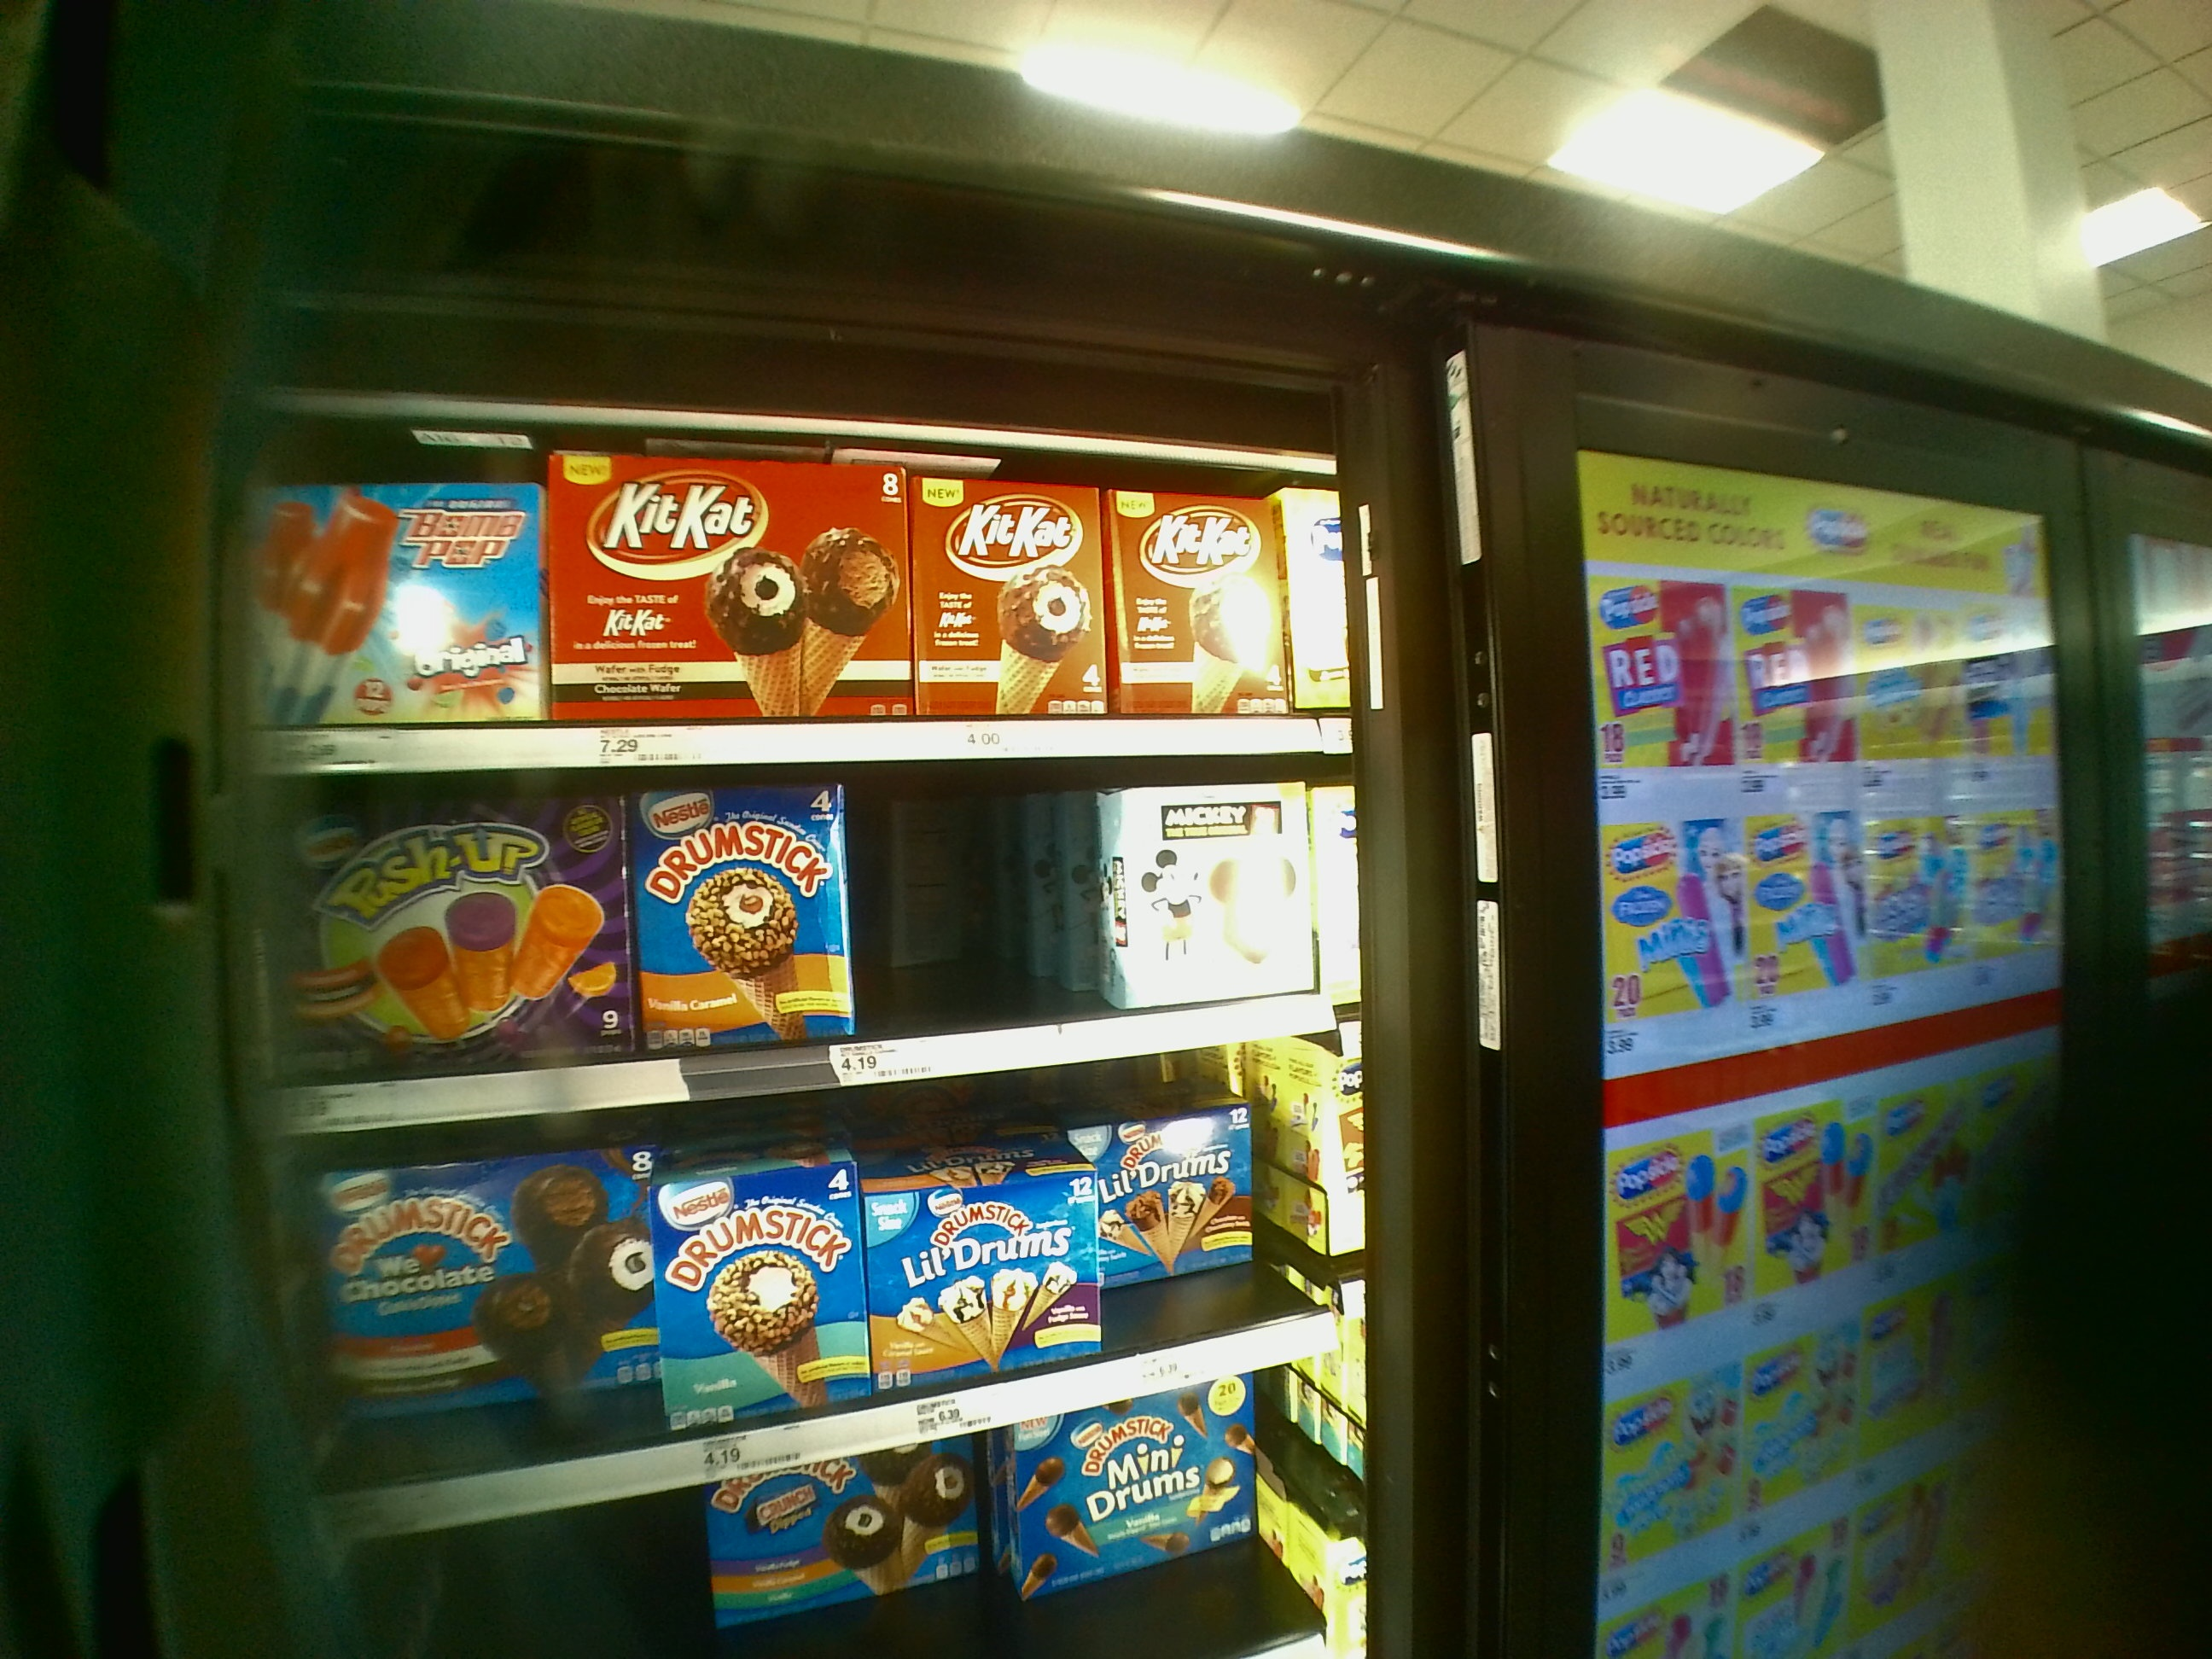shelf: (263, 751, 1381, 1105), (235, 434, 1364, 779), (289, 1114, 1367, 1462)
